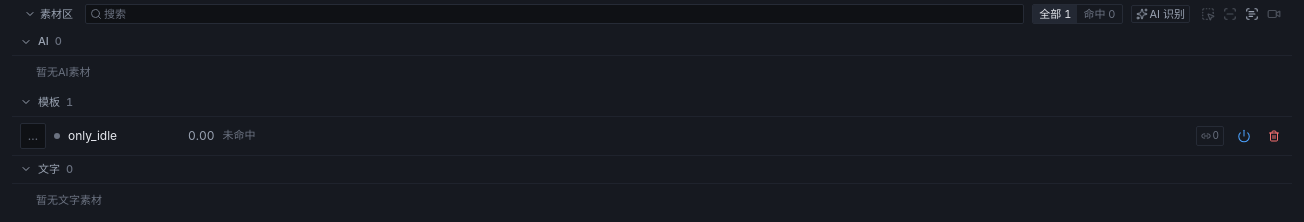
Scenario: 素材区：全部 / 命中 › 「命中」下一个都没命中：给出空态并指回去哪儿看
The width and height of the screenshot is (1304, 222).
Click the button with test id "material-filter-hit" at (1099, 14), box x1=1077 y1=5 x2=1122 y2=23
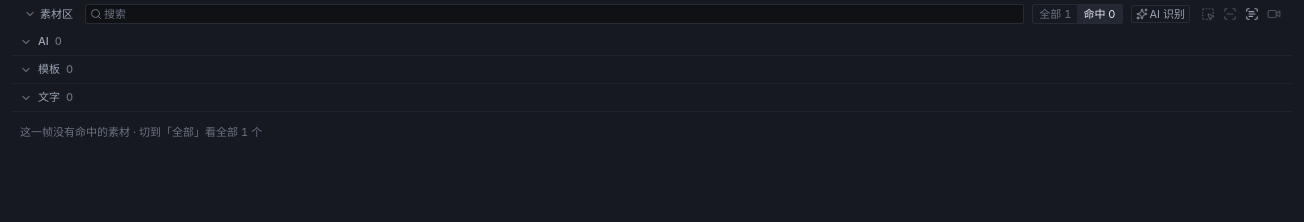
expect the button with test id "recognizer-name" is gone: met
expect the text "这一帧没有命中的素材 · 切到「全部」看全部 1 个" is shown: met, box x1=20 y1=125 x2=262 y2=139
